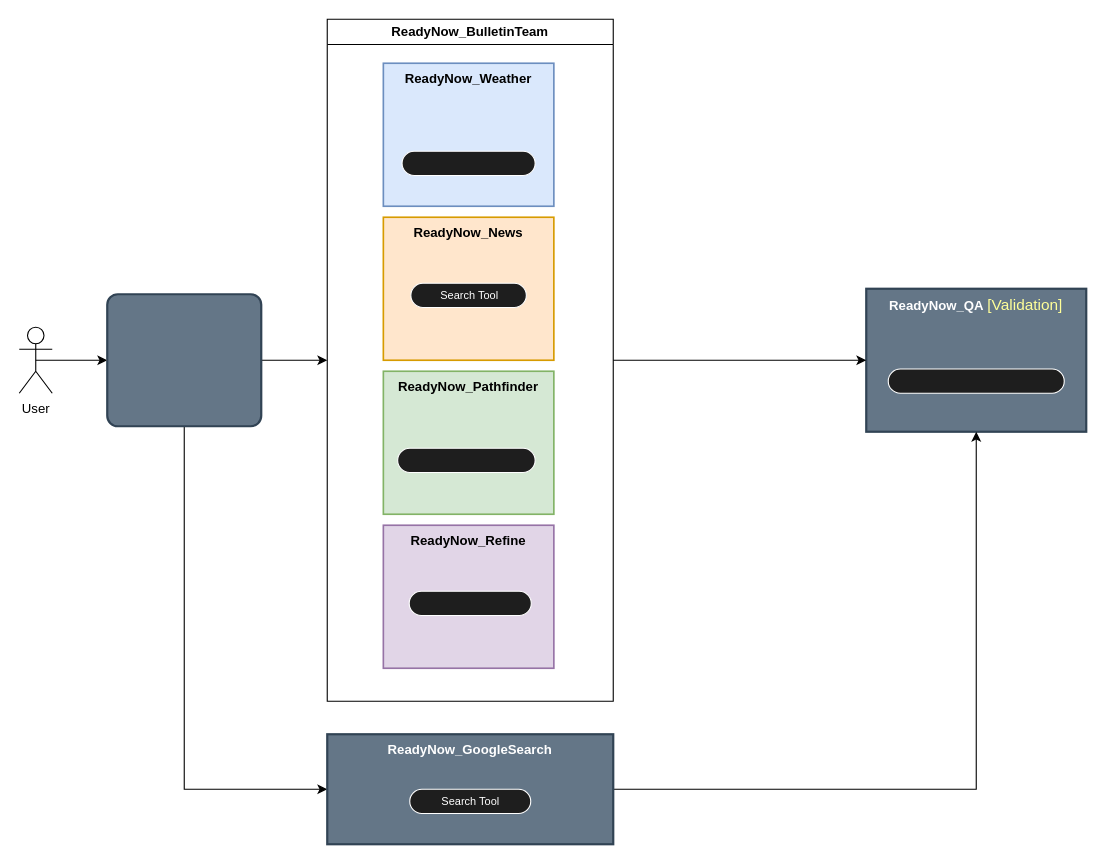
Image size: 1107x865. Some labels were removed from this diagram. Here are the shapes that lost their labels. From the top down, the centre of each, then its label:
At point 468,162: "NWS Weather API".
At point 184,360: "ReadyNow_Root".
At point 975,380: "google_search only".
At point 466,459: "Google Search Tool".
At point 469,602: "read_bulletin".
